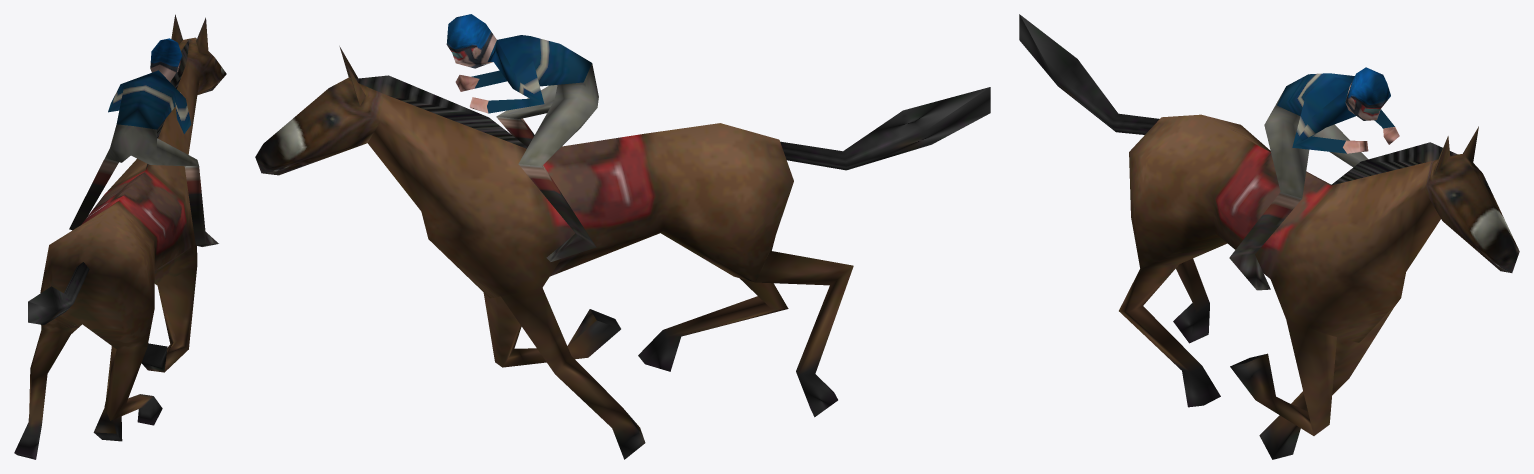
Rendered from COPY.ICO.obj.
3 views of the same model, side by side, from view 1: azimuth 30°, elevation 25°; view 2: azimuth 150°, elevation 25°; view 3: azimuth 270°, elevation 25° (orthographic). The views are drawn at different scales.
Bounding box in the file's own units: 3.5 × 3.06 × 3.12.
1 material, 1 textured.
